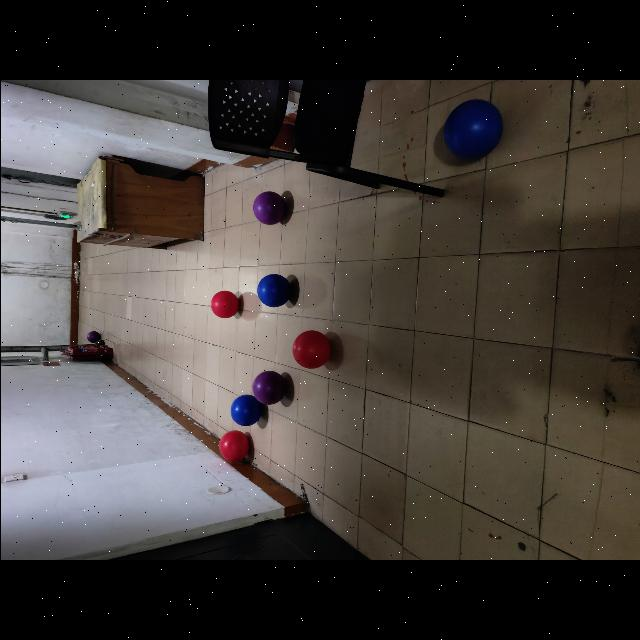B: (442, 98, 504, 160), (255, 274, 292, 308), (230, 394, 262, 426)
P: (250, 191, 286, 225), (250, 370, 286, 404)
R: (290, 329, 330, 369), (218, 430, 250, 464), (209, 289, 239, 319)
